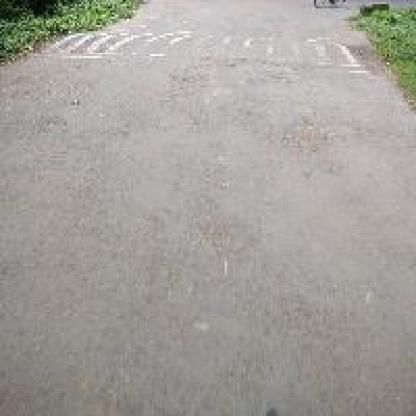Speed Bump: (41, 21, 374, 79)
